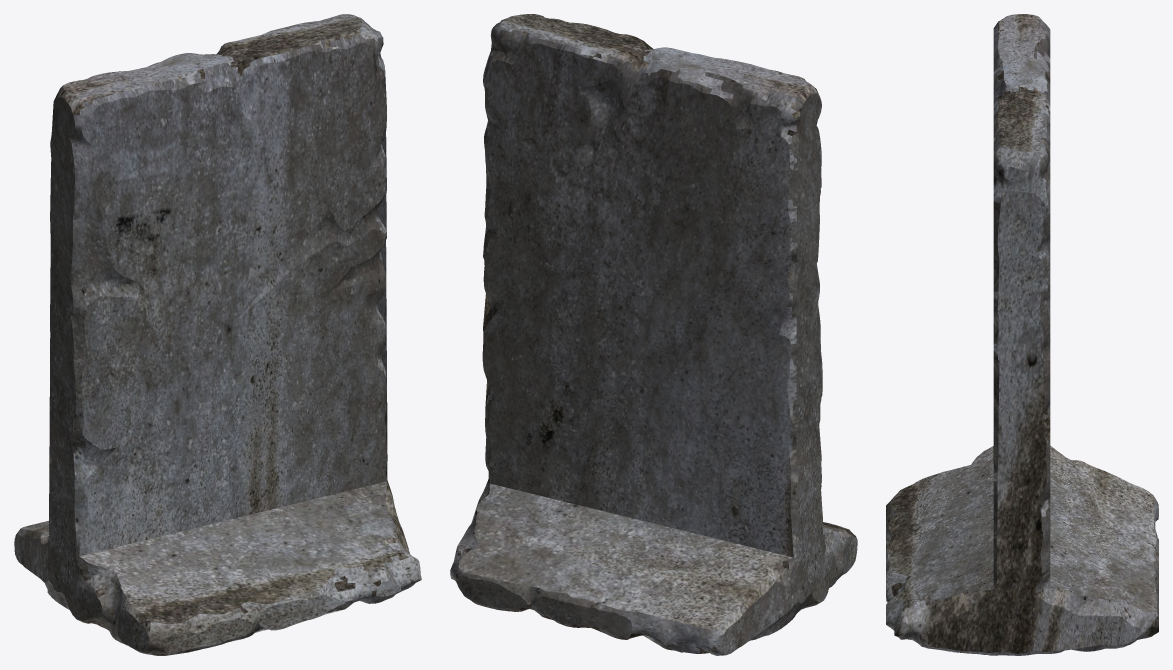
File: Bet_blok_003-1.fbx
3 renders of one model, left to right at view 1: azimuth 30°, elevation 25°; view 2: azimuth 150°, elevation 25°; view 3: azimuth 270°, elevation 25°, orthographic. The views are drawn at different scales.
Parts seen in each view (by area): view 1: Plane.002_dmg.002; view 2: Plane.002_dmg.002; view 3: Plane.002_dmg.002.
Boxes of the visible parts, bbox=[...] form: Plane.002_dmg.002: bbox=[14, 14, 421, 655]; Plane.002_dmg.002: bbox=[450, 14, 857, 655]; Plane.002_dmg.002: bbox=[886, 14, 1158, 655].
Size of the model in its own units: 160 by 257 by 127.
